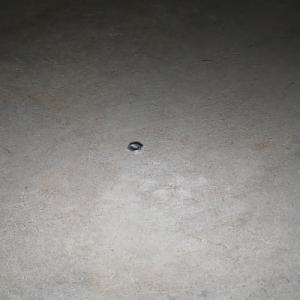Nut: (126, 144, 142, 153)
